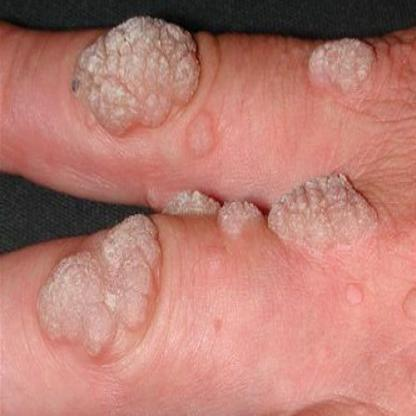Warts: (36, 194, 171, 377), (67, 8, 208, 140), (260, 164, 387, 268), (296, 18, 382, 98), (153, 158, 223, 235), (214, 173, 269, 254)
